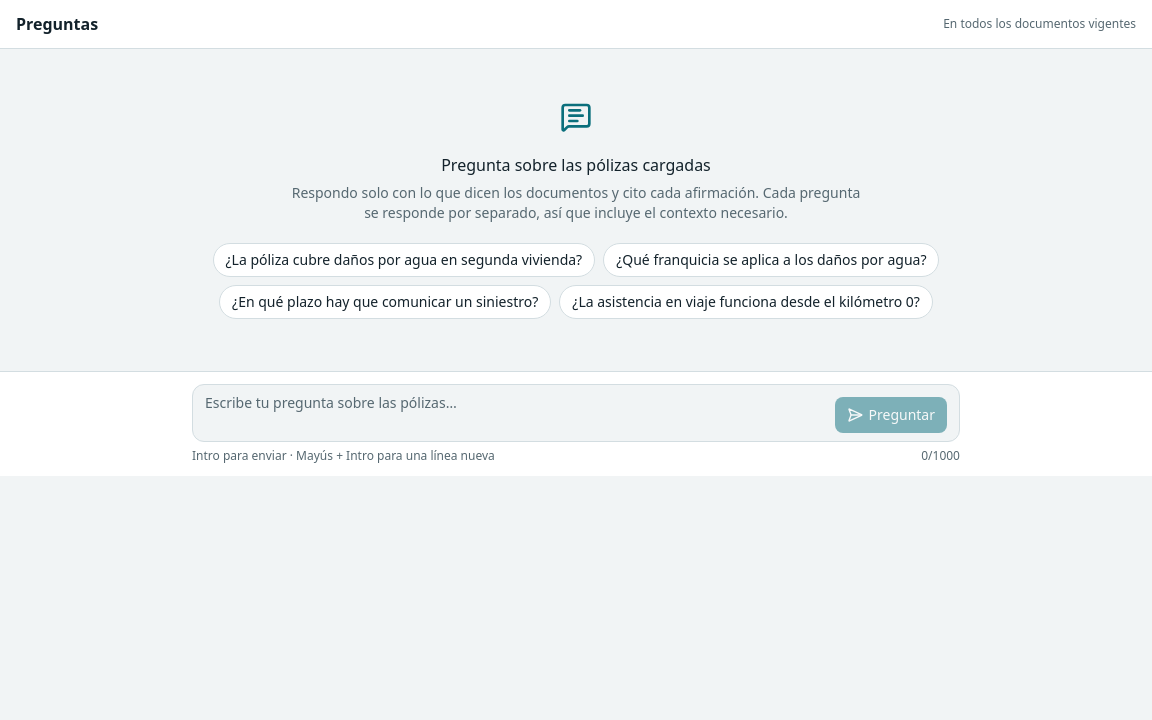
Test: ChatPanel › shows the error with its support reference and lets the user ask again
Click the button "¿La póliza cubre daños por agua en segunda vivienda?" at [404, 260], box x1=212 y1=243 x2=595 y2=277
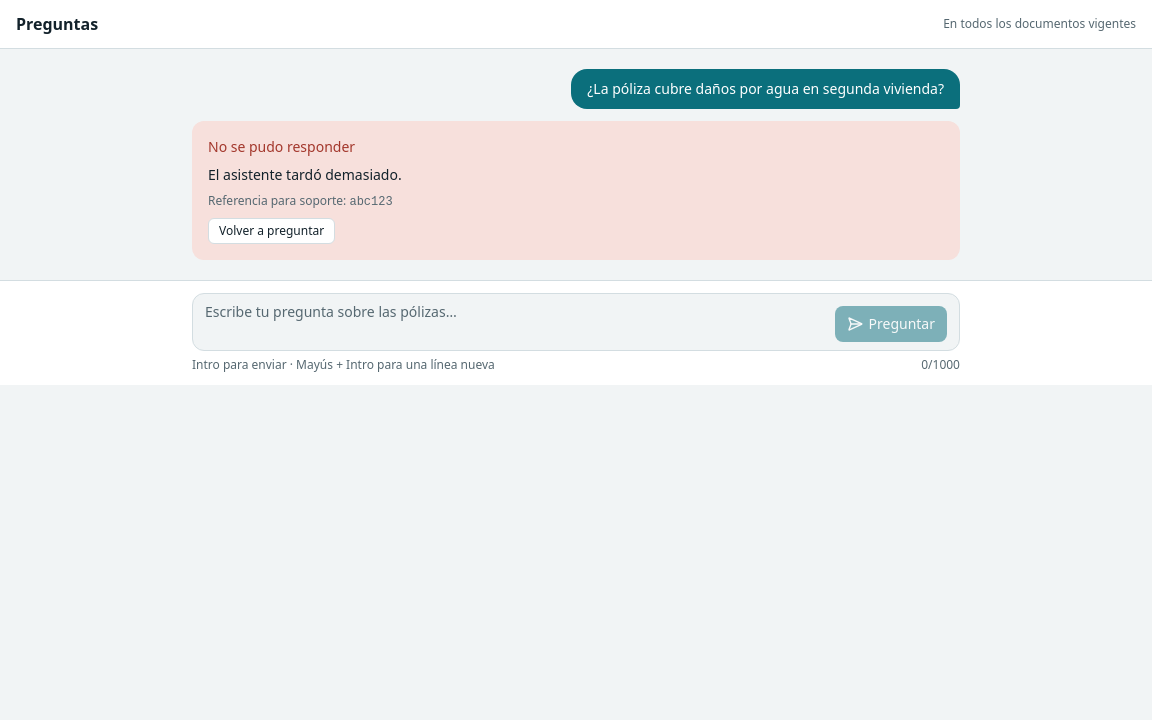
Expected: the message shows "El asistente tardó demasiado.", x1=208 y1=165 x2=402 y2=184
Expected: the link "abc123" is shown, x1=350 y1=195 x2=393 y2=209
Click the button "Volver a preguntar" at [272, 231], box x1=208 y1=218 x2=335 y2=244
(page scrolled)
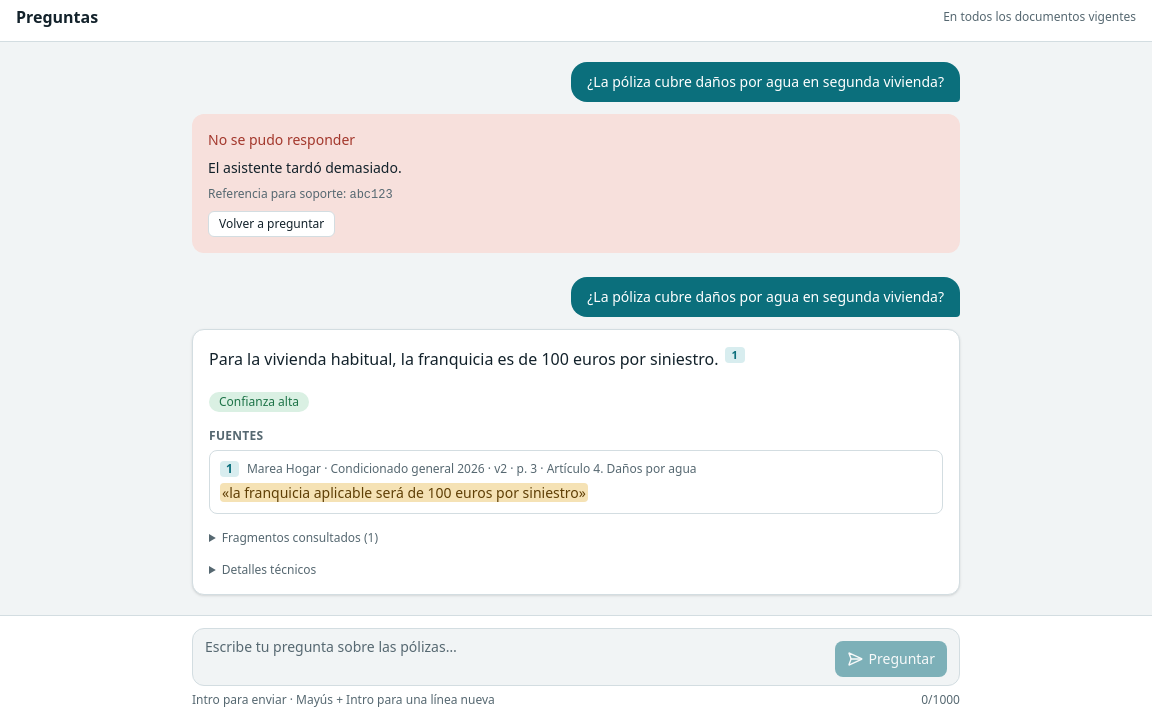
Expected: the element named "Respuesta del asistente" is shown, x1=192 y1=329 x2=960 y2=595
